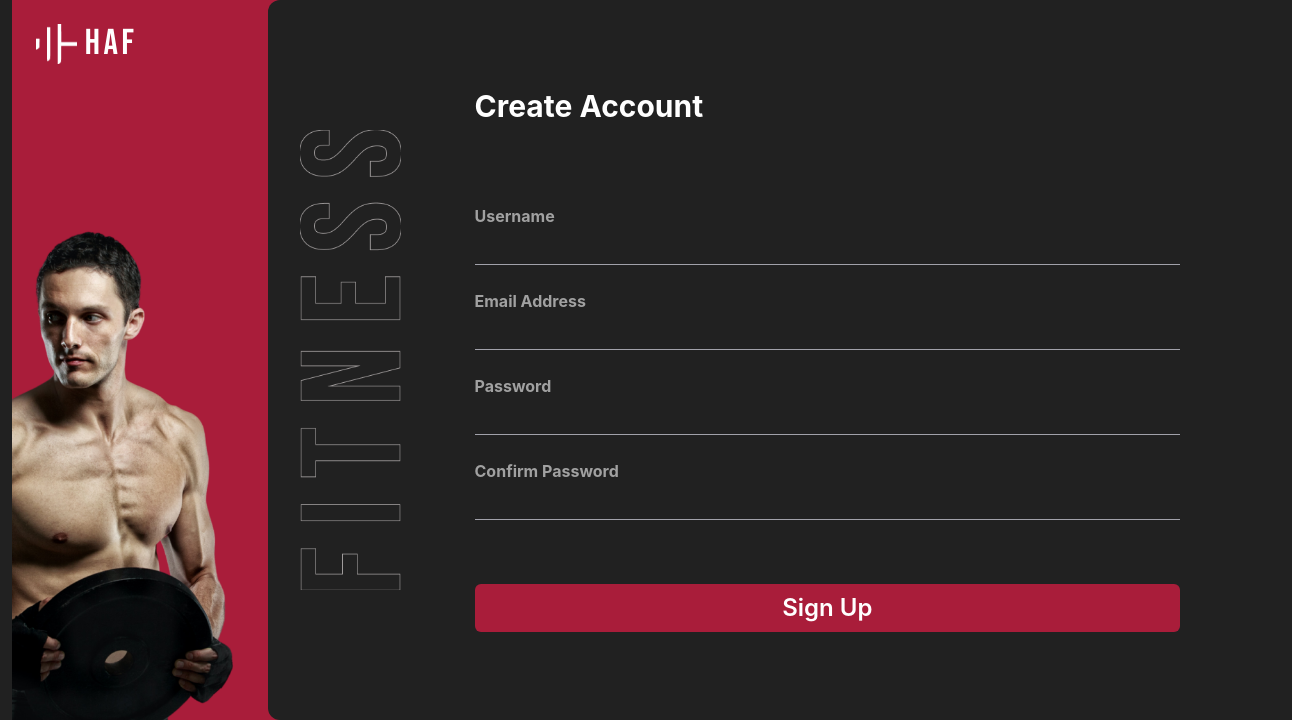
Test: Signup Page › should show error message when passwords do not match
The image size is (1292, 720).
Type "hallo" into the field labelled "Username".
click(827, 248); type("hallo")  # box [474,232,1180,265]
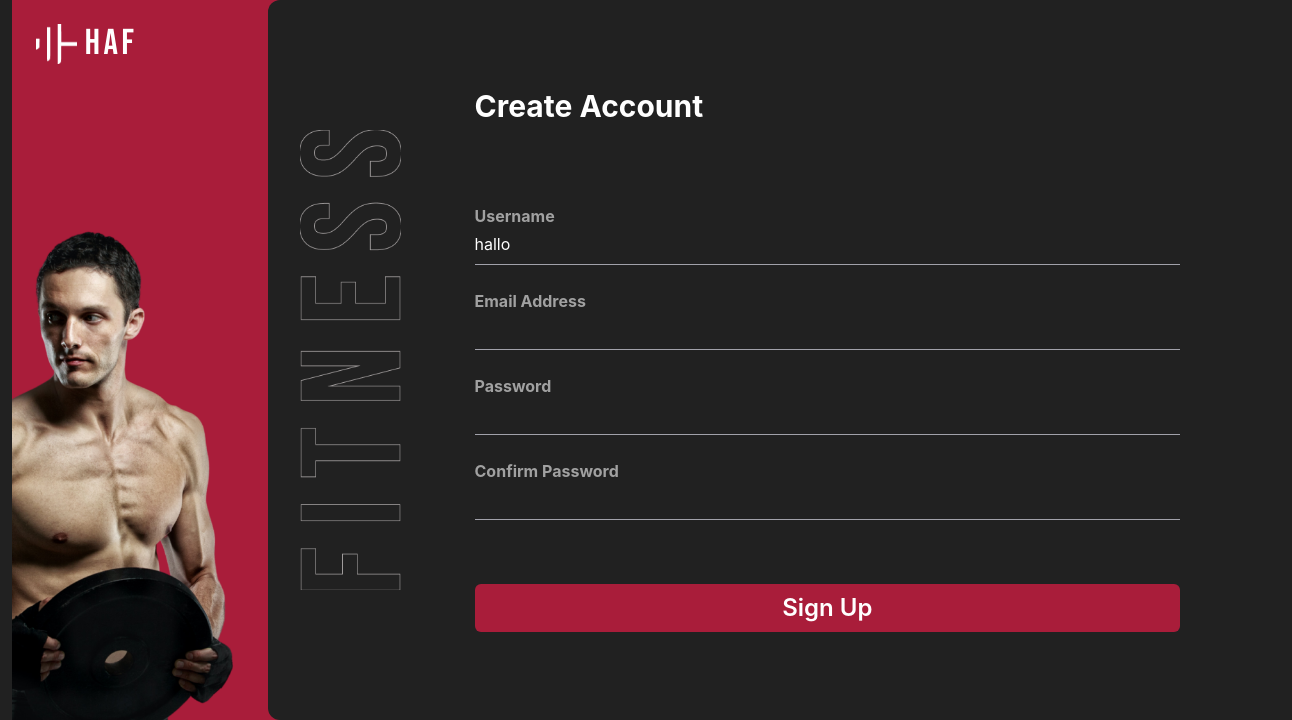
Type "email@gmail.com" into the field labelled "Email Address".
click(827, 334); type("email@gmail.com")  # box [474,317,1180,350]
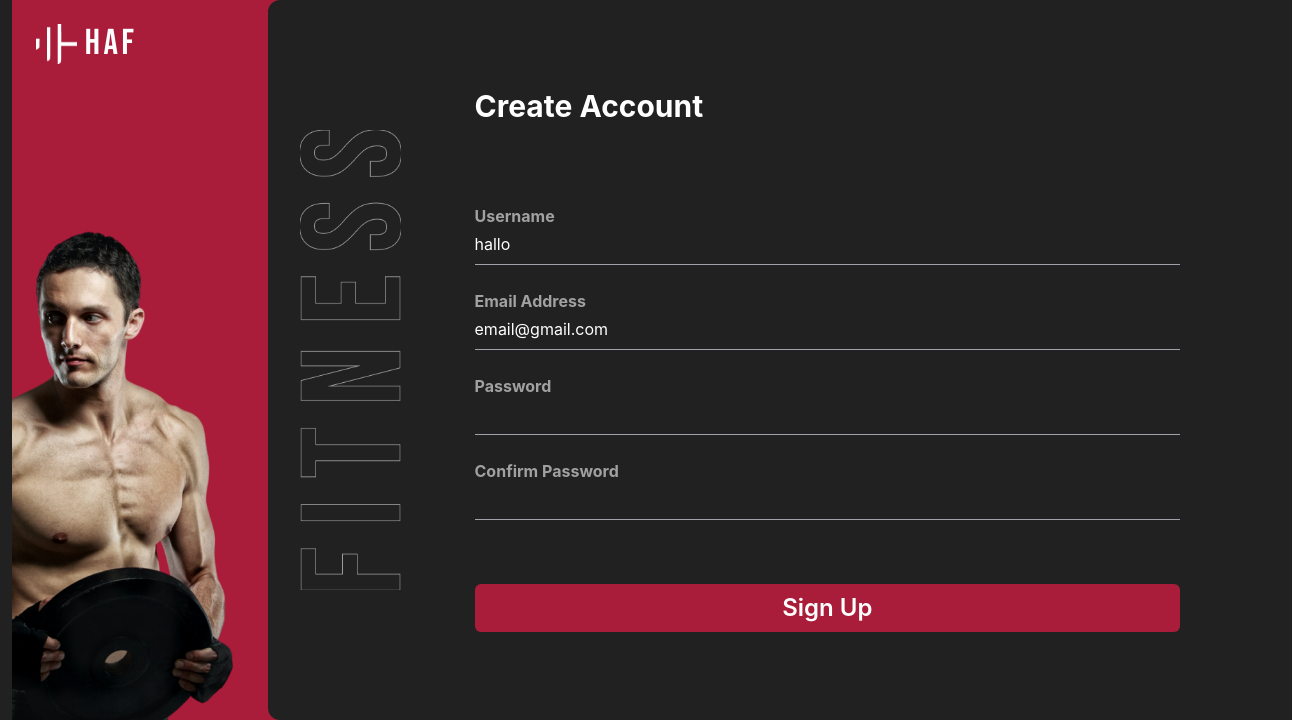
Type "password123" into the password field labelled "Password".
click(827, 418); type("password123")  # box [474,402,1180,435]
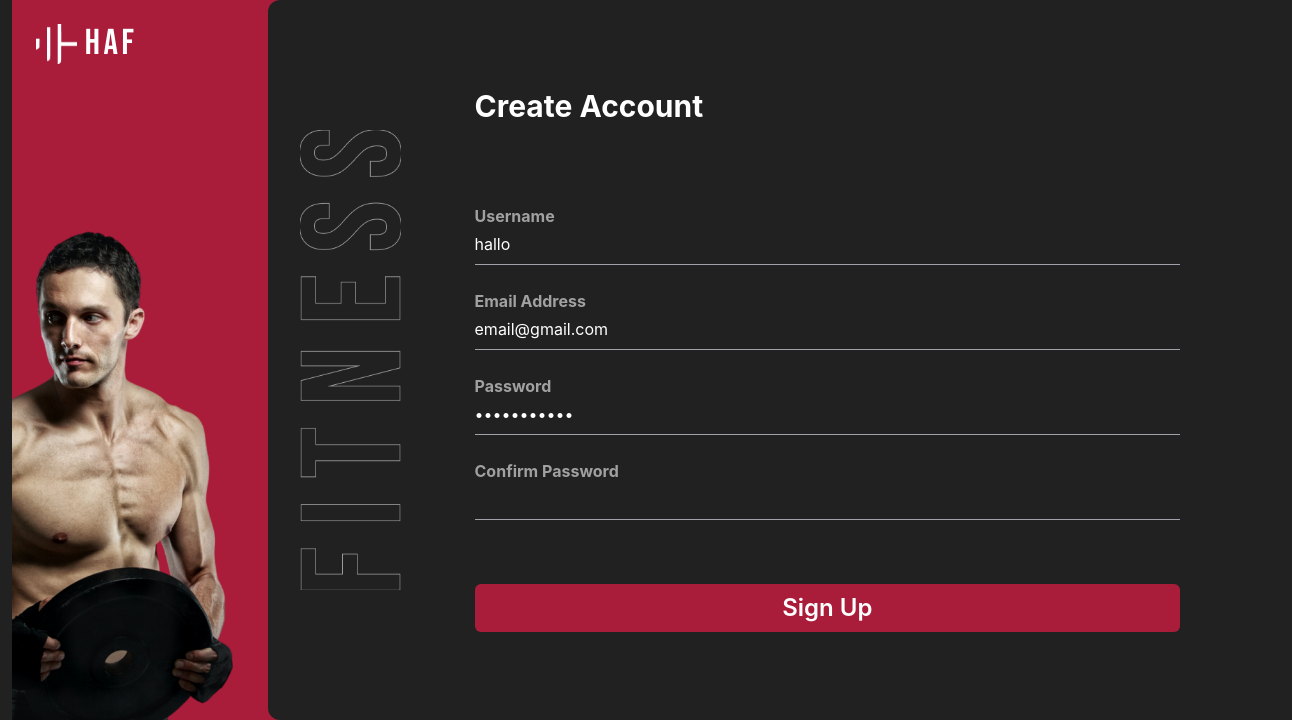
Type "password1234" into the password field labelled "Confirm Password".
click(827, 504); type("password1234")  # box [474,487,1180,520]
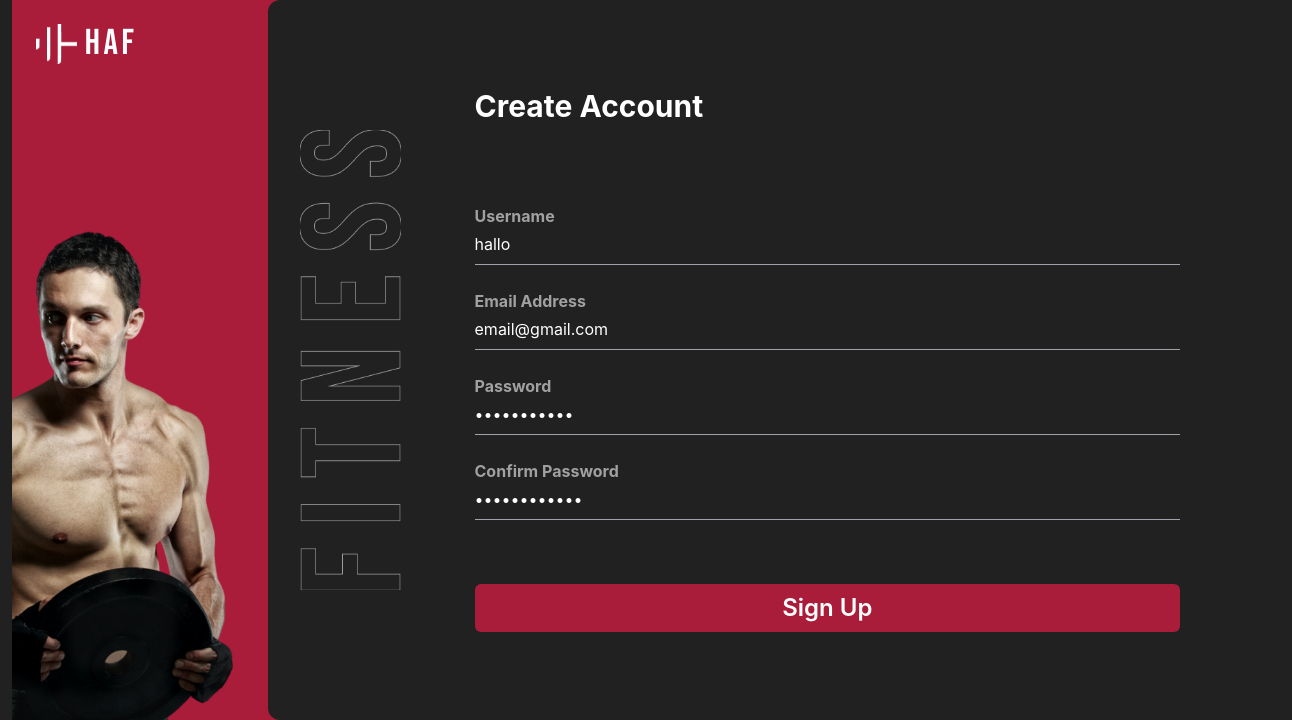
Click the button "Sign Up".
click(827, 608)  # box [474,584,1180,632]
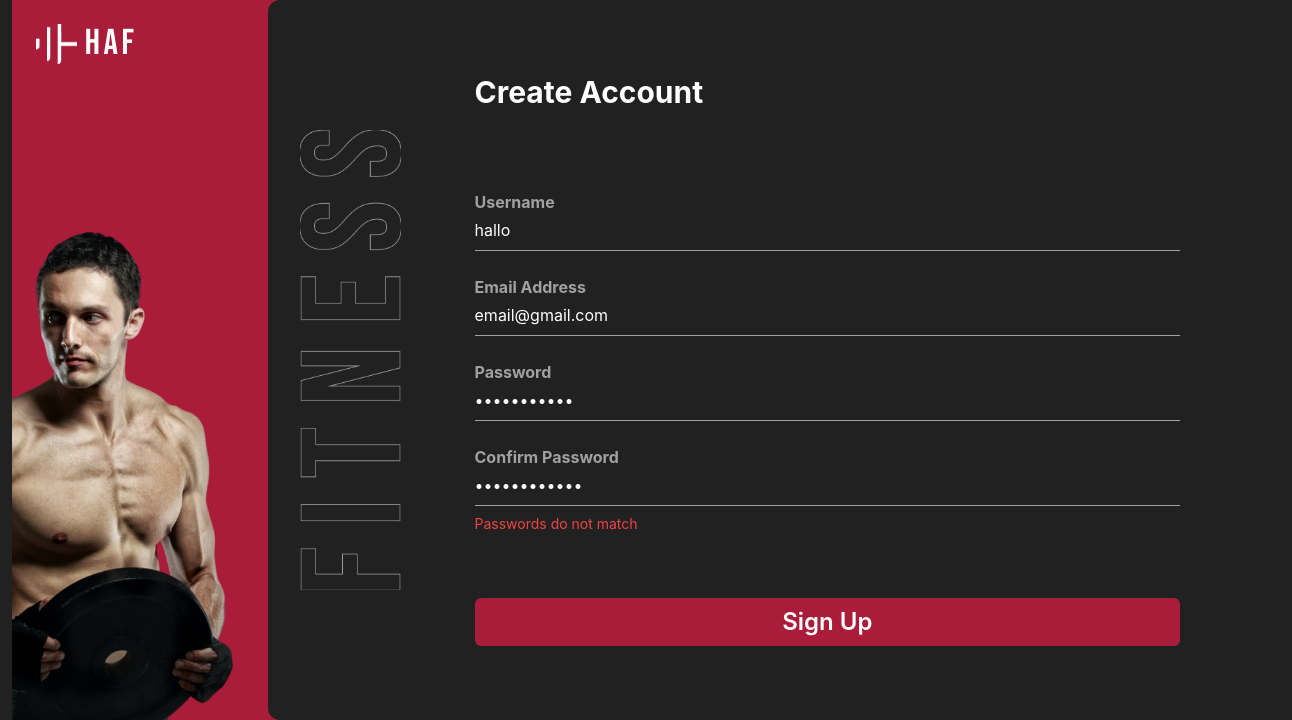
Now the text "Passwords do not match" is shown, box [474,515,638,532]
